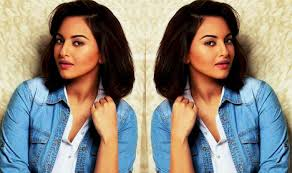indian_female: (35, 4, 115, 80)
